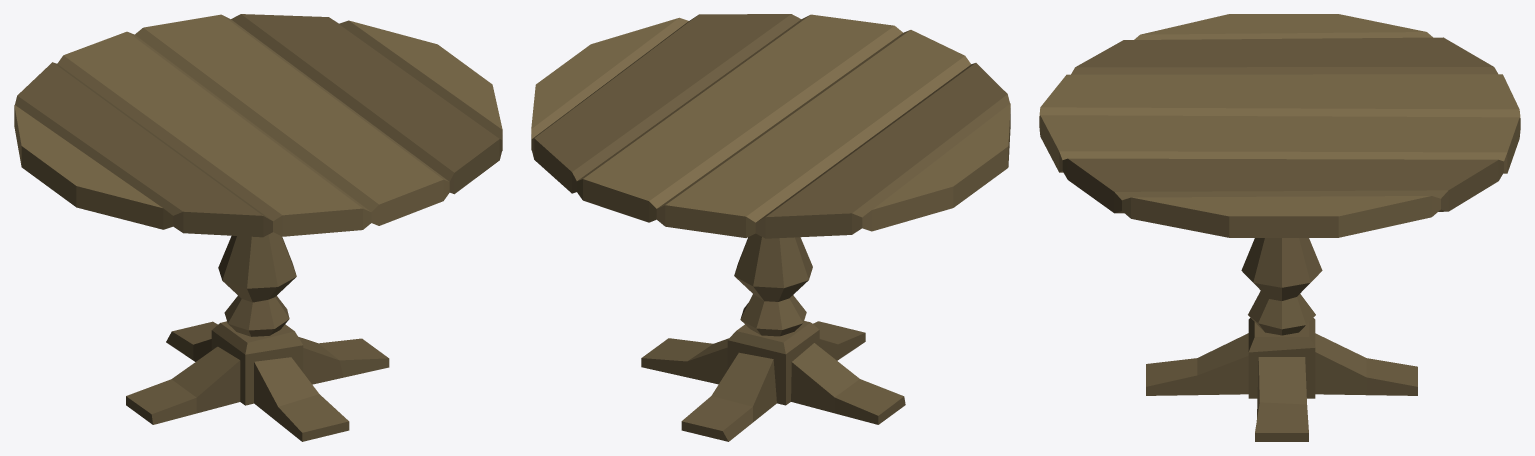
File: Table_5.fbx
The picture shows the model from 3 angles, left to right: view 1: azimuth 30°, elevation 25°; view 2: azimuth 150°, elevation 25°; view 3: azimuth 270°, elevation 25°; orthographic projection.
Visible parts, largest first — view 1: Table_5; view 2: Table_5; view 3: Table_5.
Part boxes in pixels (left/top/right/bottom): Table_5: left=14, top=14, right=502, bottom=441; Table_5: left=531, top=14, right=1010, bottom=441; Table_5: left=1039, top=14, right=1520, bottom=441.
Bounding box in the file's own units: 121 × 75.14 × 122.
